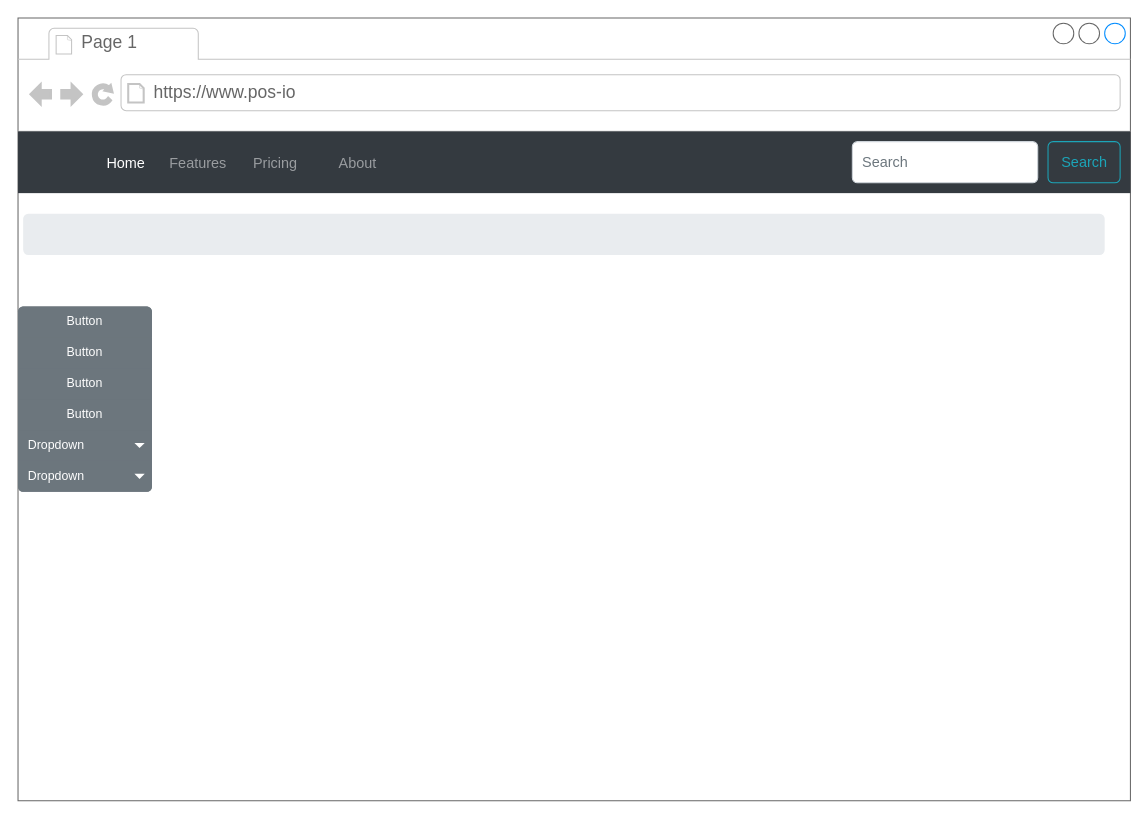
This 1148x819 diagram has some shape labels left out. The shapes that lost their labels are listed below. From the top down, each one's centre as x and y in pixels, then its label:
pixel 574 162: Navbar
pixel 563 233: Home / Library / Data
